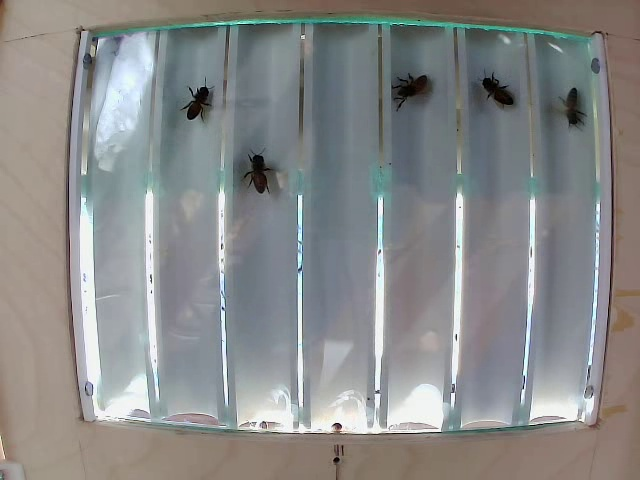bee: (476, 71, 521, 123), (392, 69, 438, 119), (549, 82, 589, 137), (240, 153, 278, 206), (189, 88, 235, 127)
